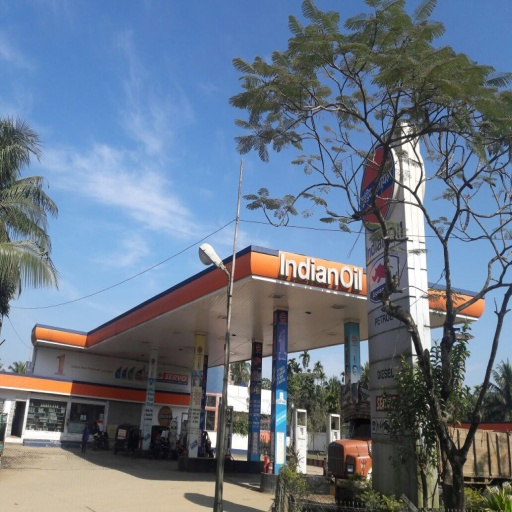roof: (82, 244, 493, 357)
